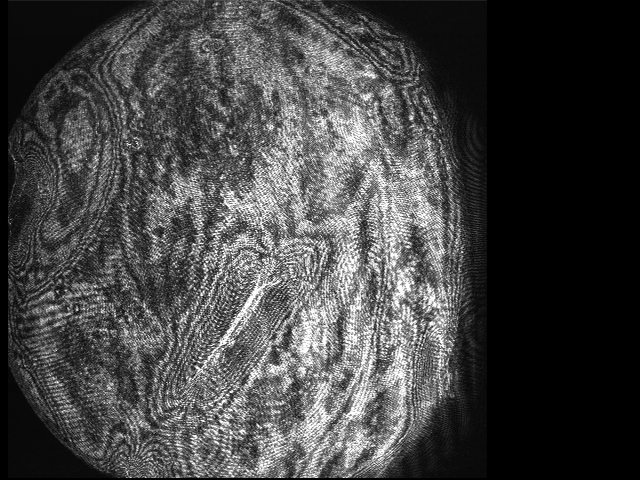plume: (154, 246, 316, 424)
